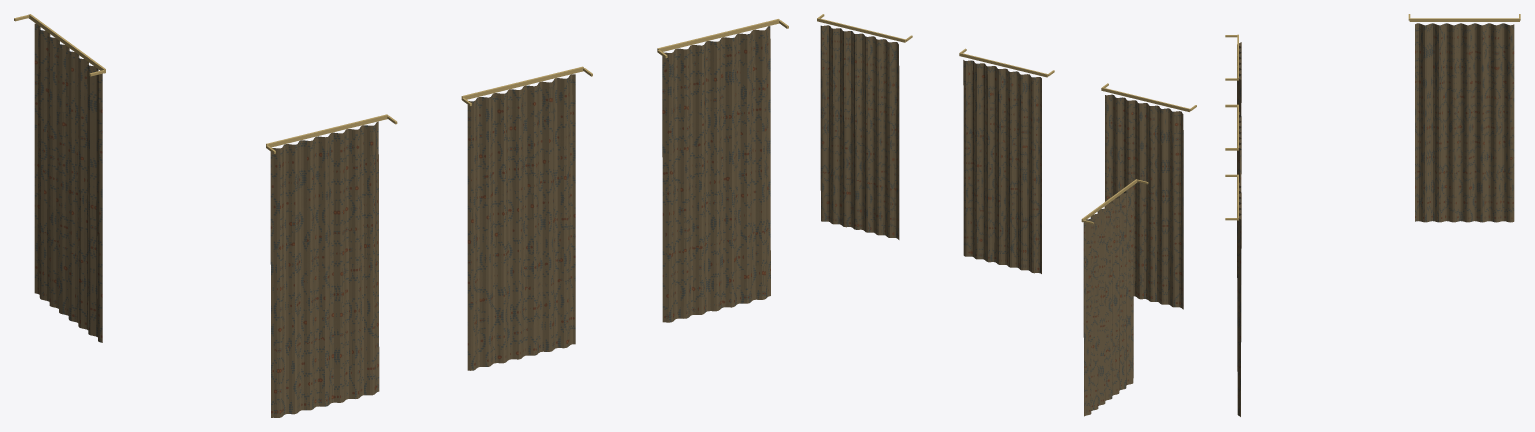
The model's file is room_seance__窗帘拉上.gltf.
The picture shows the model from 3 angles, left to right: view 1: azimuth 30°, elevation 25°; view 2: azimuth 150°, elevation 25°; view 3: azimuth 270°, elevation 25°; orthographic projection. The views are drawn at different scales.
Visible parts, largest first — view 1: 客厅·窗帘（拉上）; view 2: 客厅·窗帘（拉上）; view 3: 客厅·窗帘（拉上）.
Part boxes in pixels (x1=…): 客厅·窗帘（拉上）: x1=14, y1=14, x2=788, y2=417; 客厅·窗帘（拉上）: x1=817, y1=14, x2=1196, y2=416; 客厅·窗帘（拉上）: x1=1225, y1=14, x2=1520, y2=416.
Bounding box in the file's own units: 6.15 × 2.84 × 3.75.
2 materials, 1 textured.
